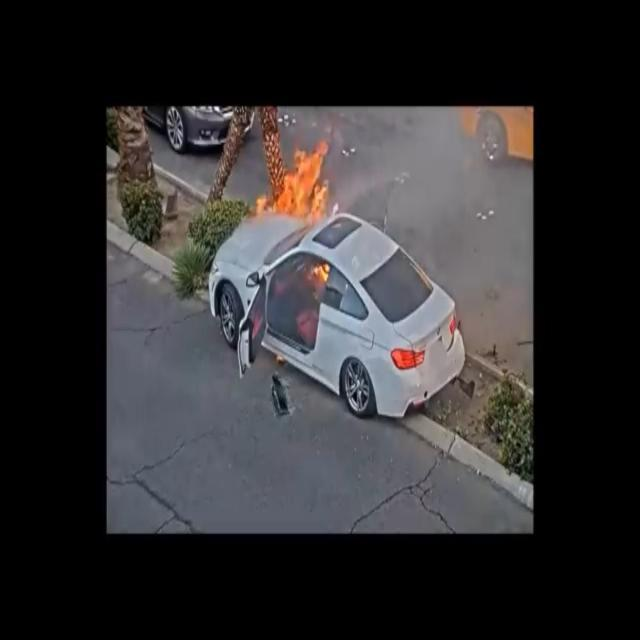fire: (257, 130, 337, 226), (306, 256, 335, 291)
